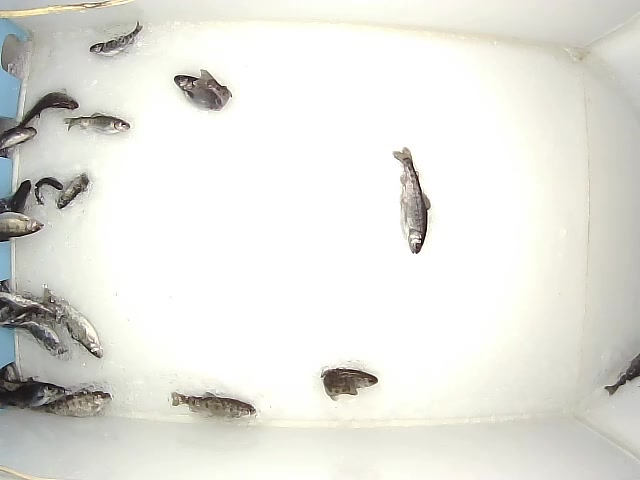fish: (41, 287, 104, 359), (391, 146, 432, 256), (169, 387, 258, 420), (13, 87, 81, 130), (173, 68, 234, 113), (1, 319, 64, 358), (31, 390, 113, 419), (321, 365, 379, 402), (89, 19, 144, 58), (62, 112, 131, 136), (56, 171, 90, 210), (34, 175, 62, 209)
